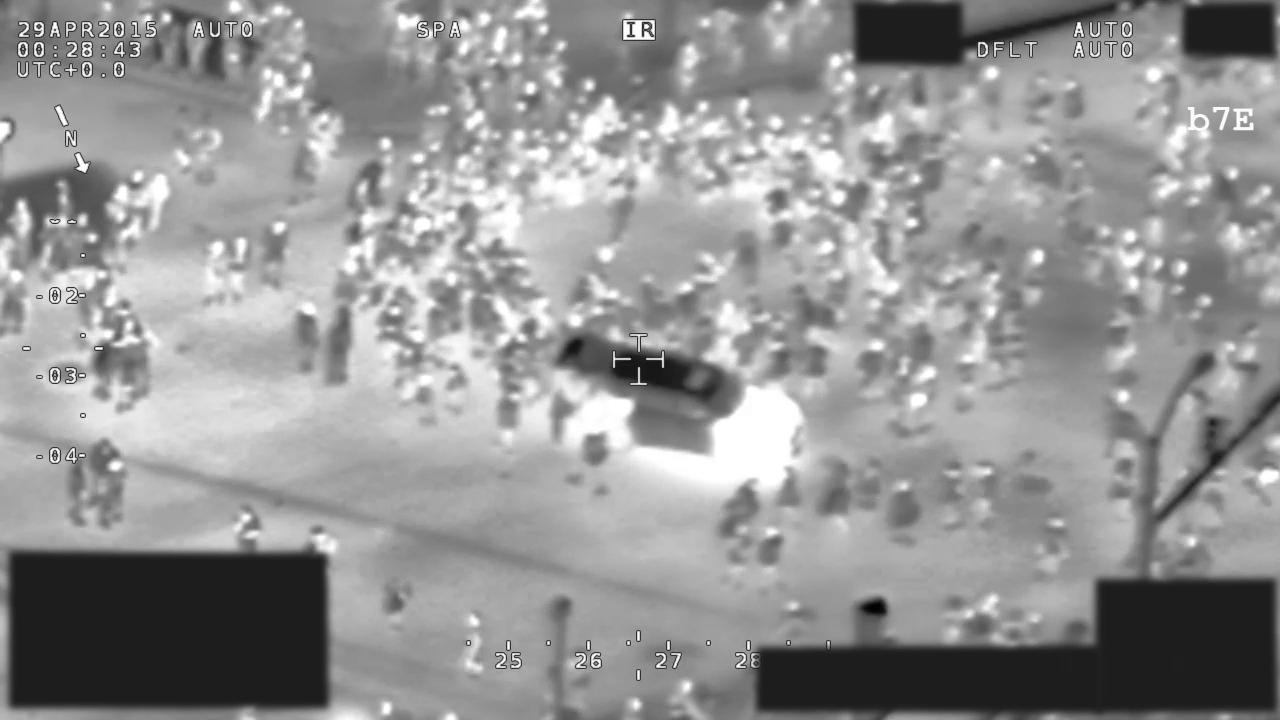vehicle: (543, 321, 813, 480)
